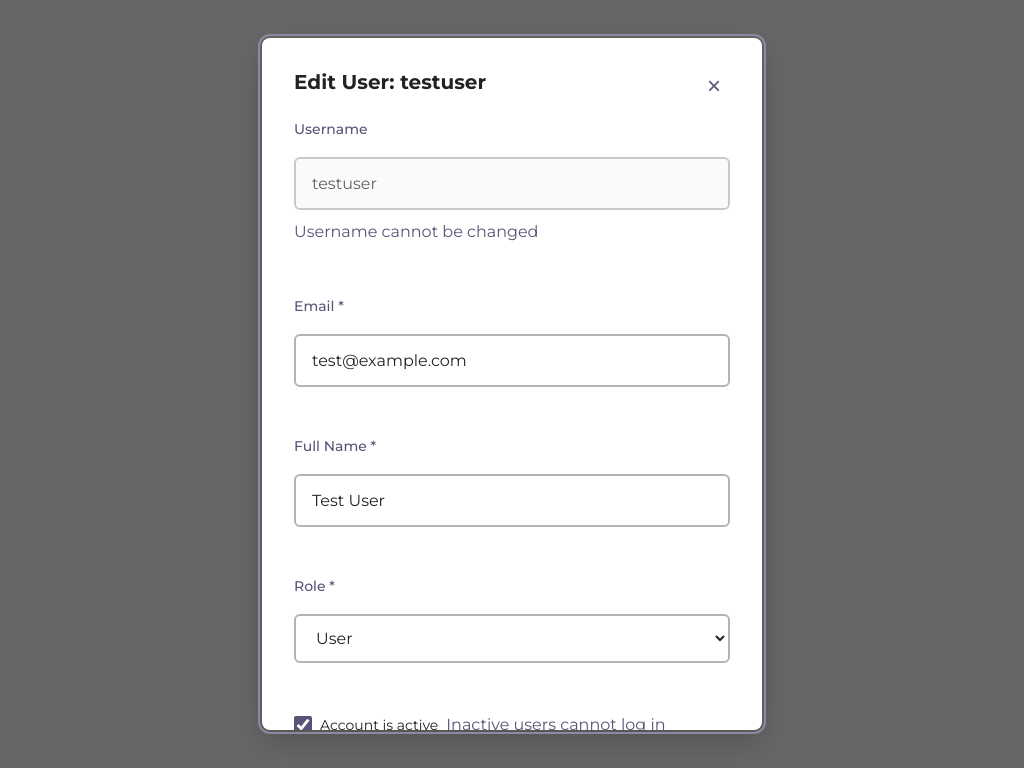
Test case: EditUserDialog › Form Submission › handles submission errors
The width and height of the screenshot is (1024, 768).
Replace the text in the field labelled "Email *" with "duplicate@example.com": (512, 360) [294,334,730,387]
(page scrolled)
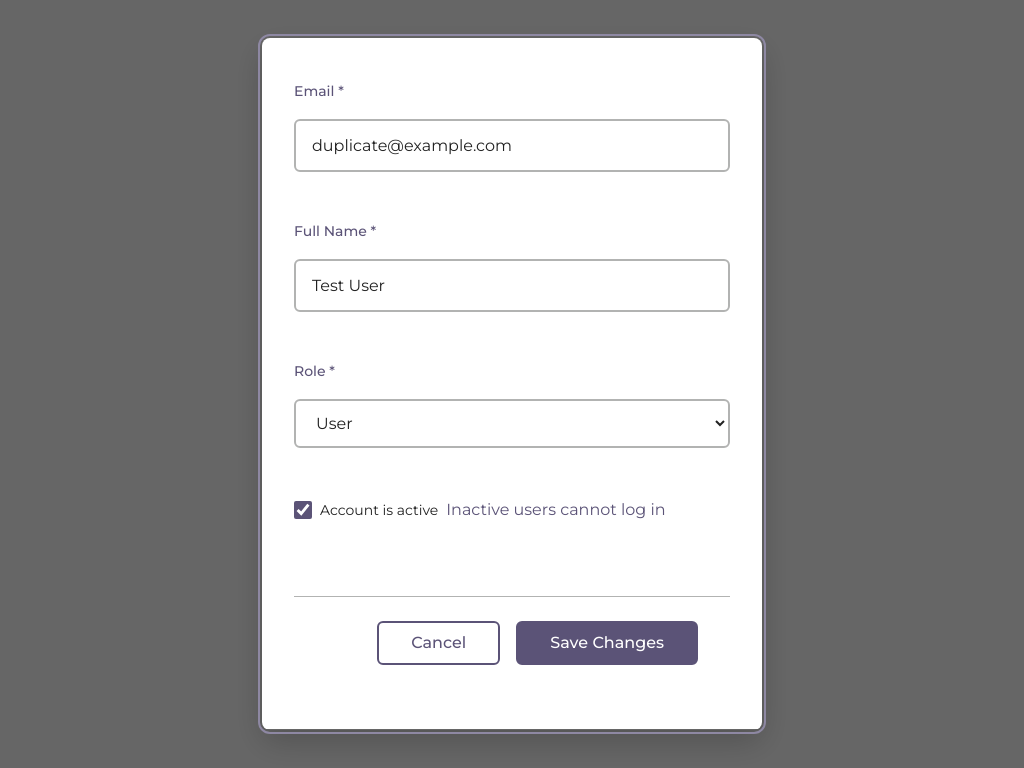
Click the button "Save Changes": (607, 643) [516,621,698,665]
(page scrolled)
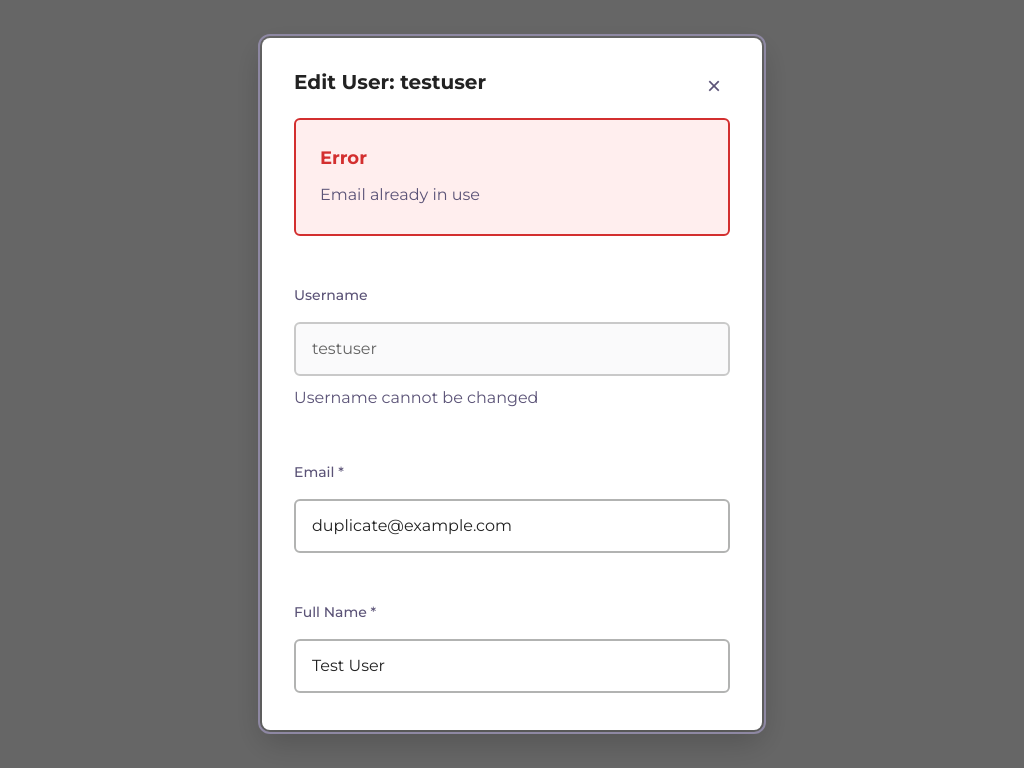
Now the text "Email already in use" is shown, box [320,181,480,210]
